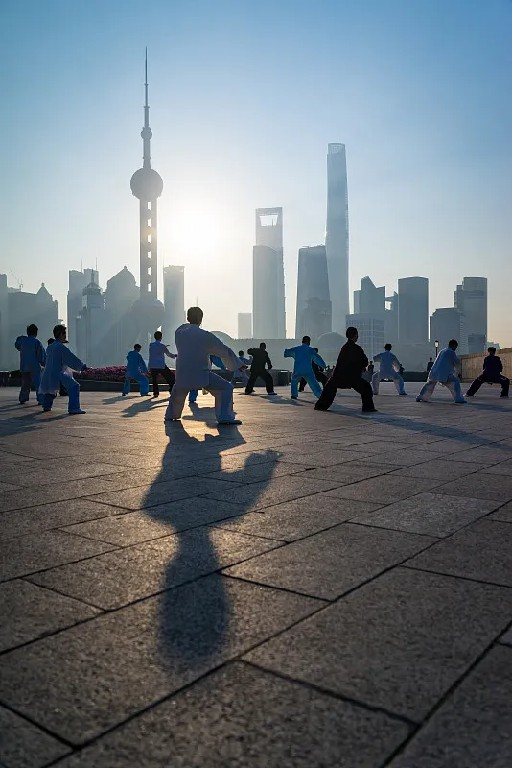Oriental: (130, 48, 164, 339)
